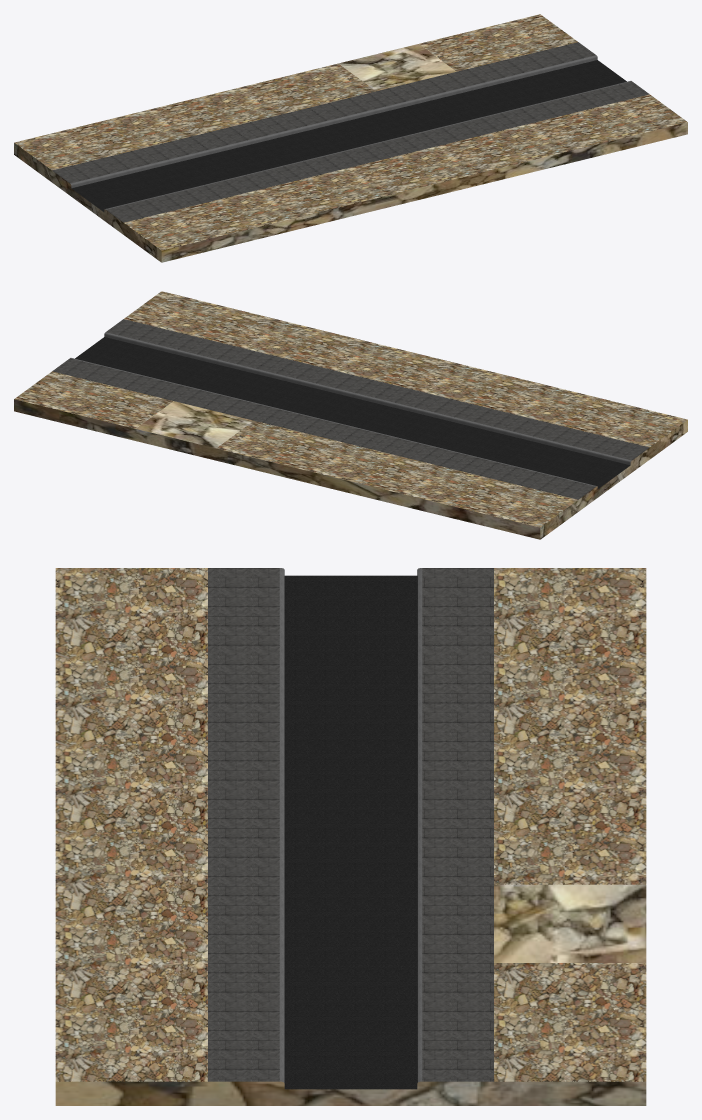
The model's file is WalkingTerrain.FBX.
3 renders of one model, top to bottom at view 1: azimuth 30°, elevation 25°; view 2: azimuth 150°, elevation 25°; view 3: azimuth 270°, elevation 25°, orthographic. The views are drawn at different scales.
Parts seen in each view (by area): view 1: Box001; view 2: Box001; view 3: Box001.
Part boxes in pixels (x1=…): Box001: x1=14, y1=14, x2=687, y2=262; Box001: x1=14, y1=291, x2=687, y2=539; Box001: x1=55, y1=568, x2=646, y2=1105.
Bounding box in the file's own units: 2011 × 44.24 × 977.
Materials: 4 (4 with a texture image).
